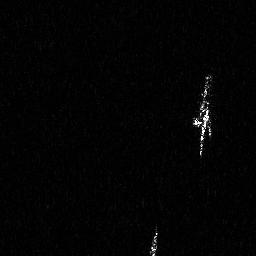ship: (193, 72, 215, 160)
